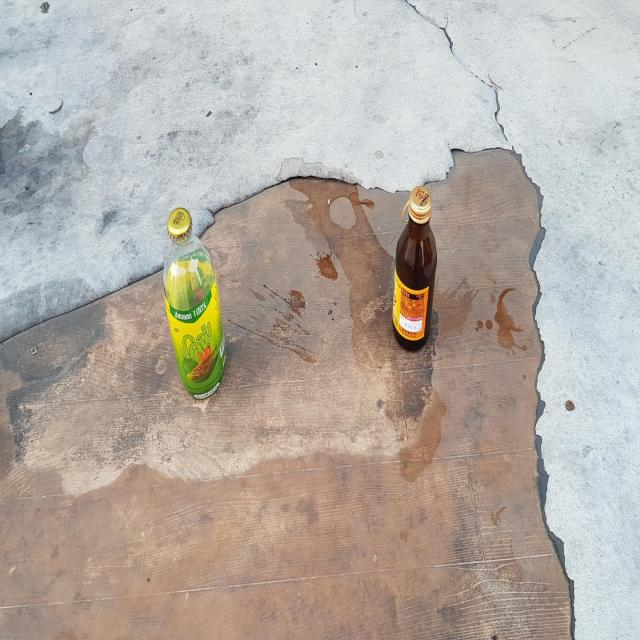glass: (163, 207, 226, 399), (393, 185, 438, 350)
